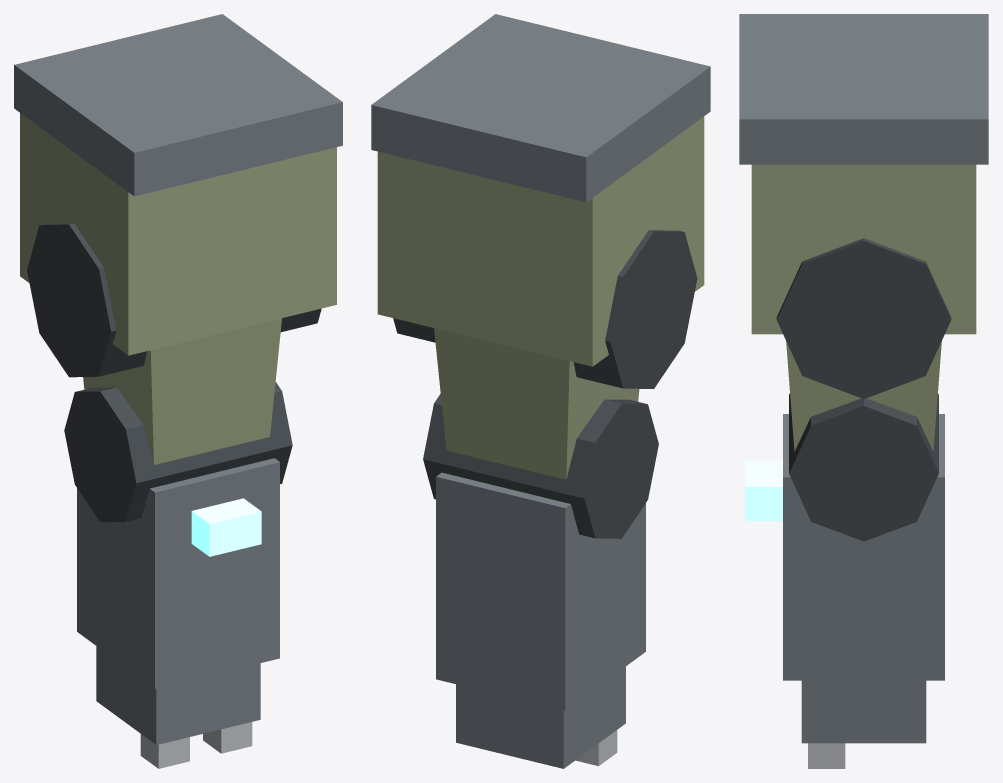
File: mech-hangar-and-battle-frames-scout-arm-66989826__26839.glb
The picture shows the model from 3 angles, left to right: view 1: azimuth 30°, elevation 25°; view 2: azimuth 150°, elevation 25°; view 3: azimuth 270°, elevation 25°; orthographic projection. The views are drawn at different scales.
Visible parts, largest first — view 1: scout-arm, elbow (×4); view 2: scout-arm, elbow (×3); view 3: scout-arm, elbow (×4).
Part boxes in pixels (<box>): scout-arm: <box>14,14,342,464</box>; elbow (×4): <box>64,382,292,768</box>; scout-arm: <box>371,14,710,479</box>; elbow (×3): <box>423,394,658,768</box>; scout-arm: <box>739,14,988,451</box>; elbow (×4): <box>745,393,944,768</box>.
Bounding box in the file's own units: 0.42 × 1.2 × 0.4.
